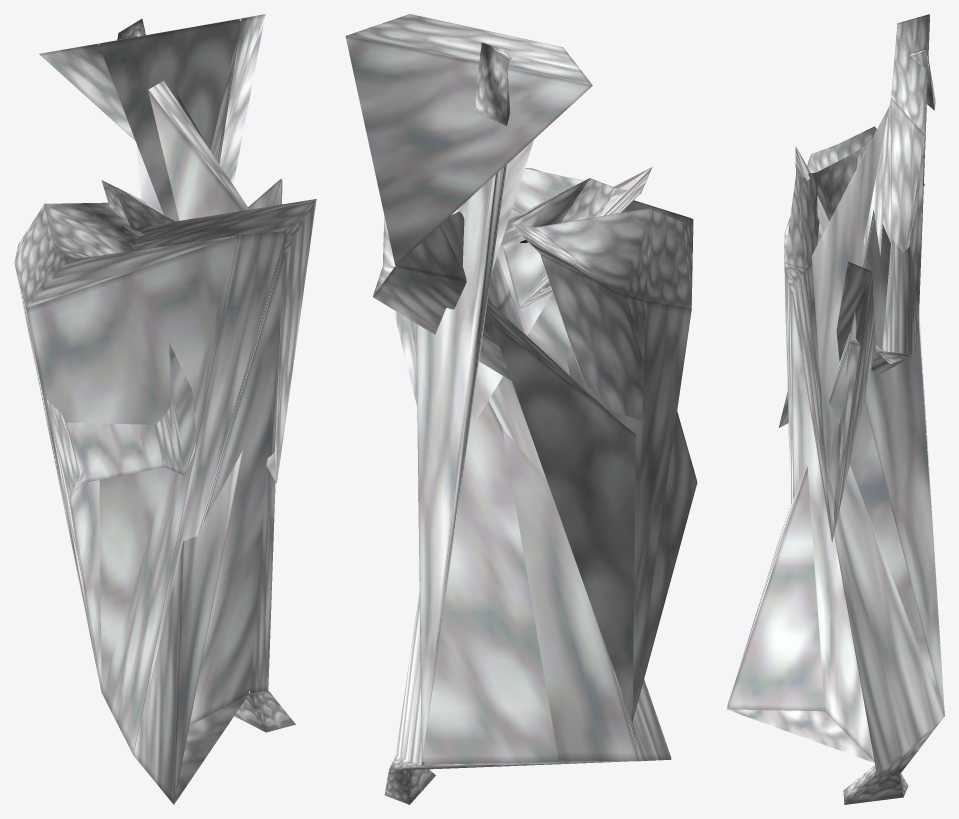
3 views of the same model, side by side, from view 1: azimuth 30°, elevation 25°; view 2: azimuth 150°, elevation 25°; view 3: azimuth 270°, elevation 25° (orthographic). The views are drawn at different scales.
Visible parts, largest first — view 1: T1L2M004_8; view 2: T1L2M004_8; view 3: T1L2M004_8.
Part boxes in pixels (box(x1,y1,x2,y2)): T1L2M004_8: box(14, 14, 316, 804); T1L2M004_8: box(345, 14, 697, 804); T1L2M004_8: box(726, 14, 944, 804).
Size of the model in its own units: 0.3989 by 0.9797 by 0.2775.
